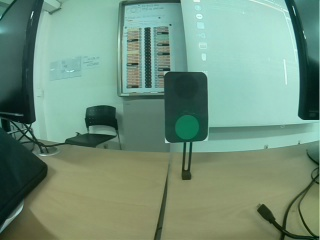green_light: (162, 71, 210, 146)
